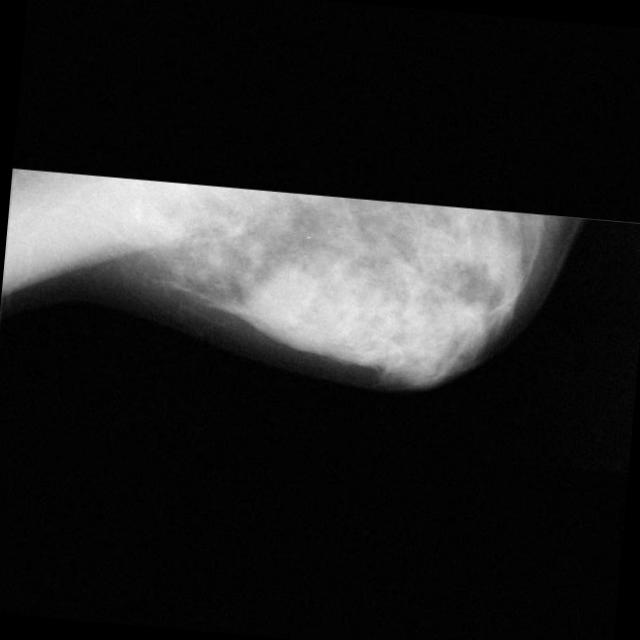CIRC: (252, 262, 316, 328)
